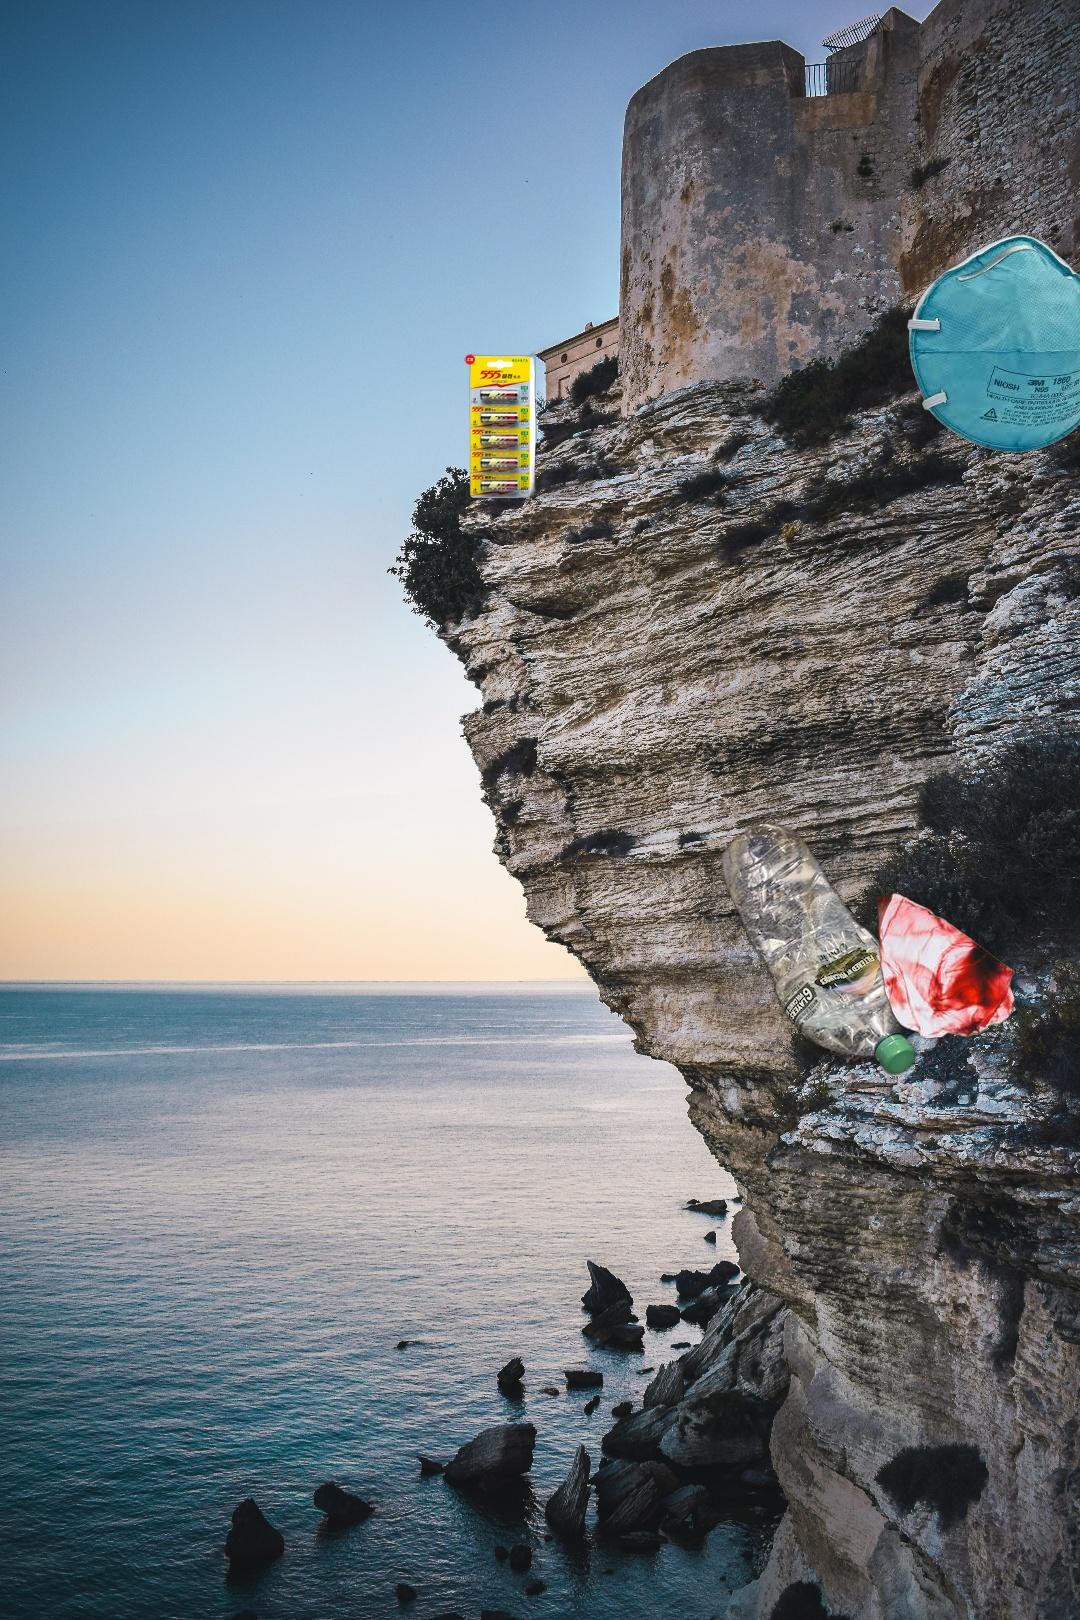battery: (462, 351, 601, 501)
plastic-bag: (804, 890, 1019, 1093)
plastic-bottles: (715, 816, 920, 1080)
trash: (904, 231, 1080, 456)
